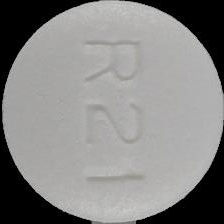0378-3121: (0, 0, 224, 224)
